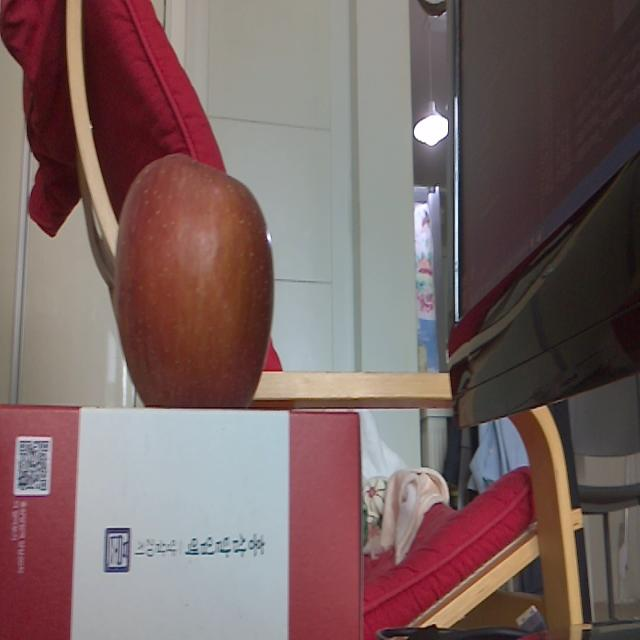apple: (118, 150, 274, 408)
